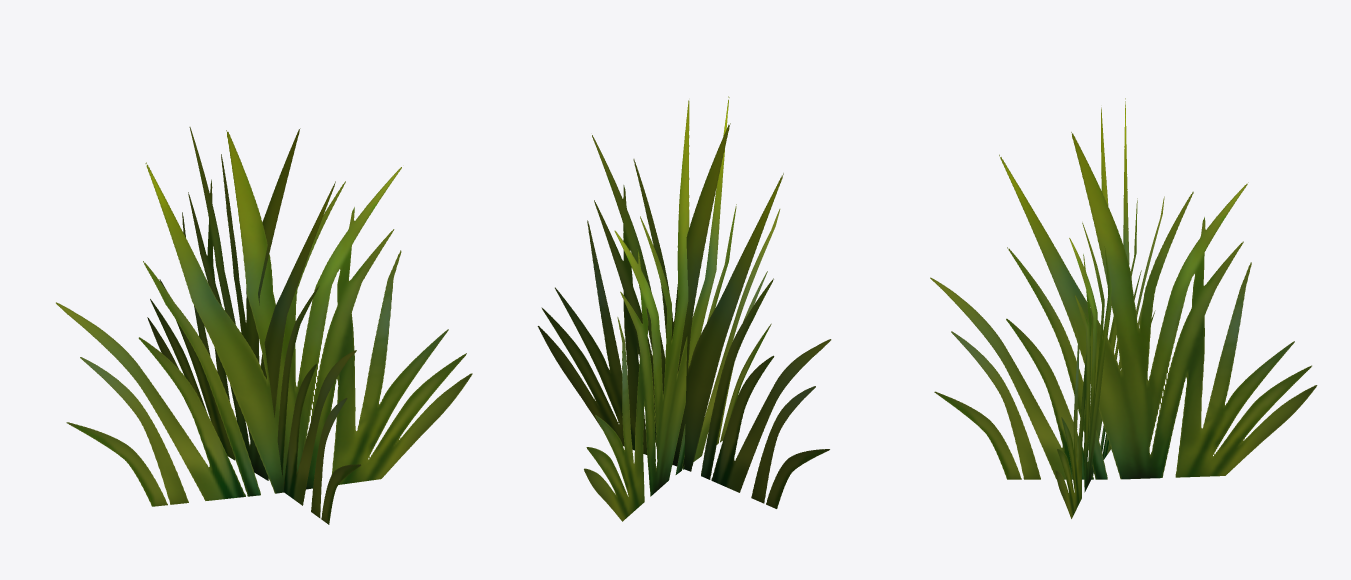
The model's file is Grass.FBX.
3 views of the same model, side by side, from view 1: azimuth 30°, elevation 25°; view 2: azimuth 150°, elevation 25°; view 3: azimuth 270°, elevation 25° (orthographic). The views are drawn at different scales.
Parts seen in each view (by area): view 1: Grass; view 2: Grass; view 3: Grass.
Boxes of the visible parts, x1,y1,x2,y2 form: Grass: (56, 127, 472, 524); Grass: (537, 96, 831, 521); Grass: (930, 98, 1317, 518).
Bounding box in the file's own units: 33.28 × 29.94 × 32.9.
Materials: 1 (1 with a texture image).
